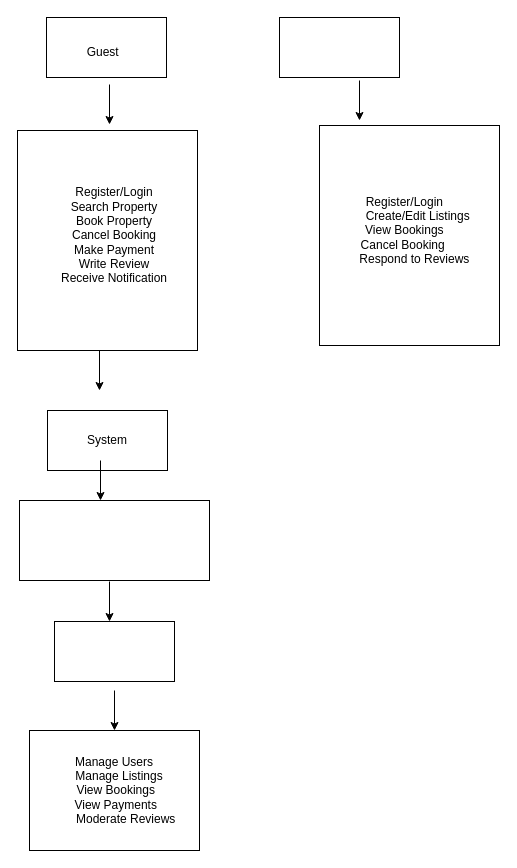
The diagram is 517 pixels wide and 868 high, and some of its shapes have lost their labels. The centre of each missing label's shape, as x and y in pixels:
Admin: pixel 114 651
Host: pixel 339 47
Process Payment Send Email: pixel 114 540
